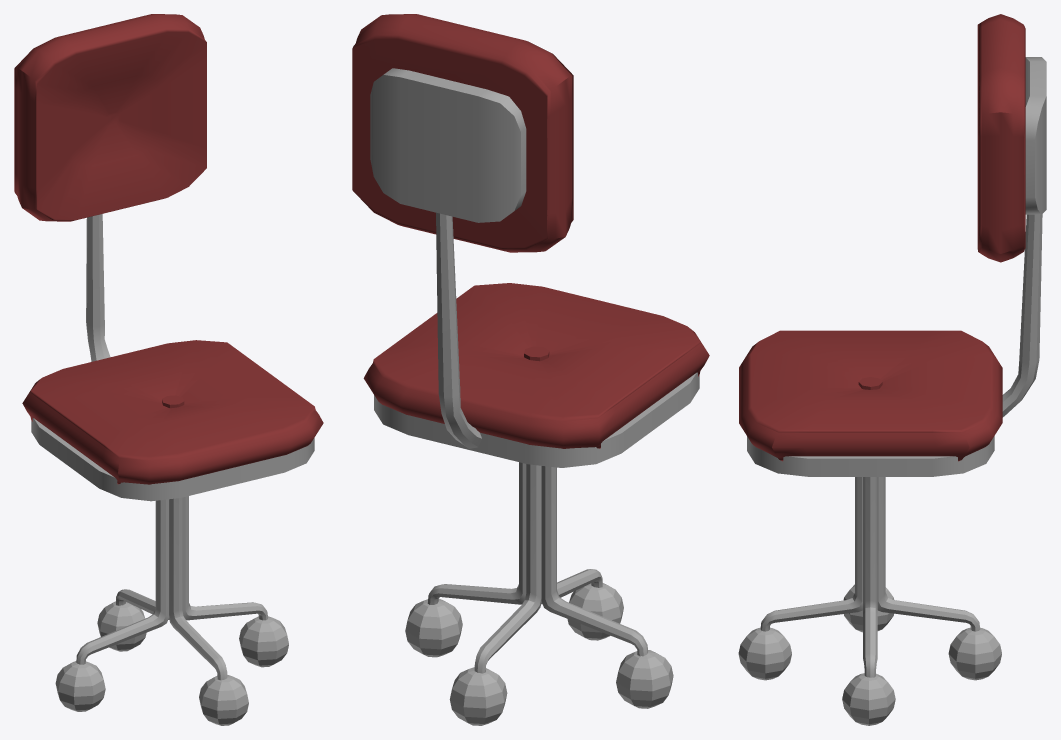
Rendered from CadeiraSeguranca.fbx.
The picture shows the model from 3 angles, left to right: view 1: azimuth 30°, elevation 25°; view 2: azimuth 150°, elevation 25°; view 3: azimuth 270°, elevation 25°; orthographic projection. The views are drawn at different scales.
Visible parts, largest first — view 1: Pes5; view 2: Pes5; view 3: Pes5.
Part boxes in pixels (box(x1,y1,x2,y2)): Pes5: box(14, 14, 323, 725); Pes5: box(352, 14, 709, 725); Pes5: box(738, 14, 1046, 725).
Bounding box in the file's own units: 0.6959 × 1.79 × 0.786.
